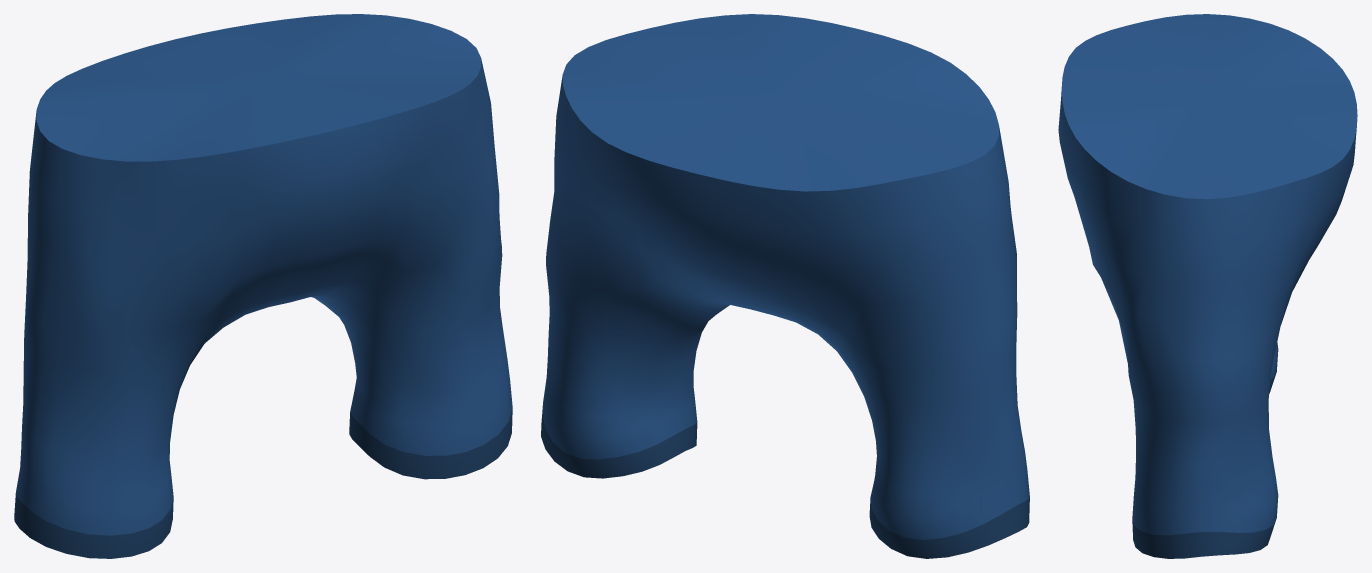
The model's file is 4Draegast.fbx.
3 views of the same model, side by side, from view 1: azimuth 30°, elevation 25°; view 2: azimuth 150°, elevation 25°; view 3: azimuth 270°, elevation 25° (orthographic). The views are drawn at different scales.
Parts seen in each view (by area): view 1: 4Draegast; view 2: 4Draegast; view 3: 4Draegast.
Part boxes in pixels (x1,y1,x2,y2): 4Draegast: (14, 14, 512, 558); 4Draegast: (541, 14, 1029, 558); 4Draegast: (1058, 14, 1357, 558).
Bounding box in the file's own units: 0.6404 × 0.5276 × 0.3793.
